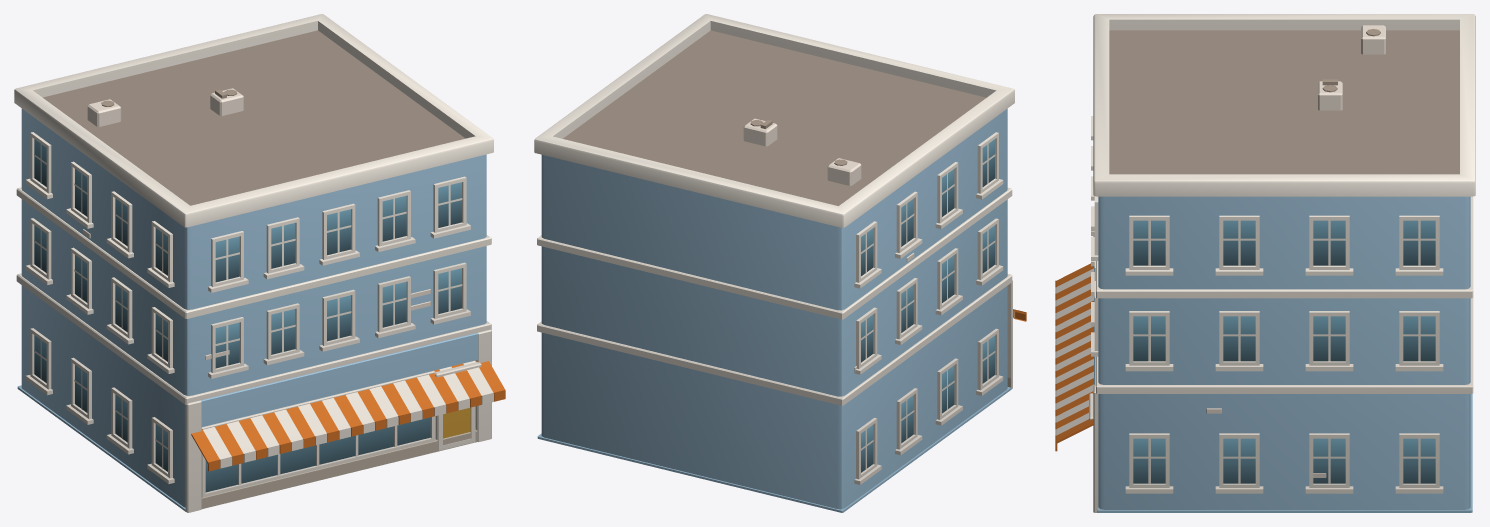
The model's file is beacon_w1.glb.
3 views of the same model, side by side, from view 1: azimuth 30°, elevation 25°; view 2: azimuth 150°, elevation 25°; view 3: azimuth 270°, elevation 25° (orthographic). The views are drawn at different scales.
Visible parts, largest first — view 1: beacon_w1; view 2: beacon_w1; view 3: beacon_w1.
Boxes of the visible parts, <box> form: beacon_w1: <box>14,14,505,512</box>; beacon_w1: <box>534,14,1026,512</box>; beacon_w1: <box>1055,14,1475,512</box>.
Size of the model in its own units: 12.98 by 12.19 by 13.55.
Materials: 1 (1 with a texture image).
